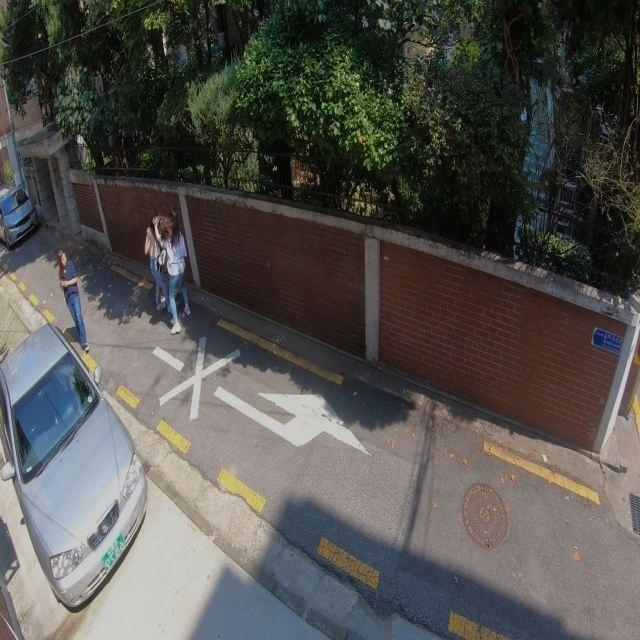fight: (138, 210, 191, 334)
non-fight: (54, 242, 93, 351)
